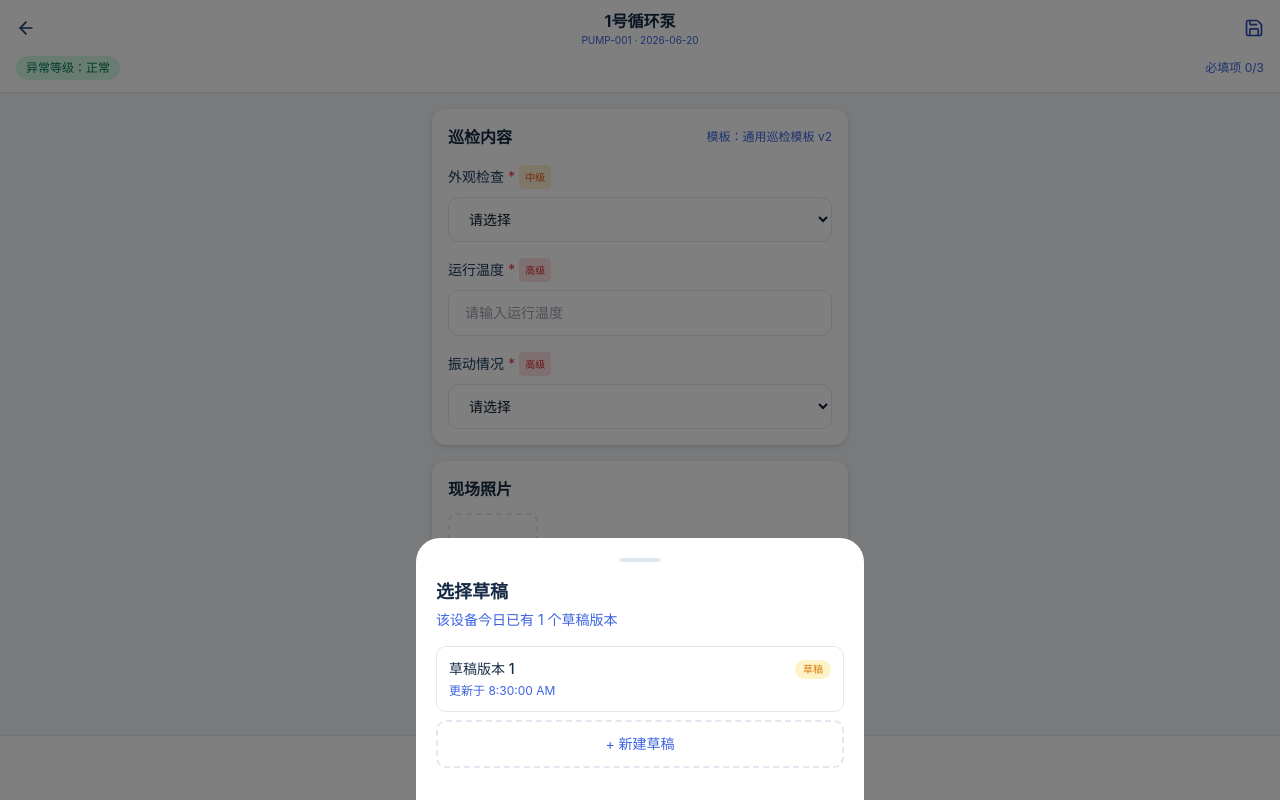
InspectionForm - 问题2: 旧模板版本拦截 › 点击取消可以继续编辑但不能提交
Check: the heading "选择草稿" is shown, box [436,581,508,602]
Step 1. Click the text "草稿版本 1" → (482, 669), box [449,659,514,679]
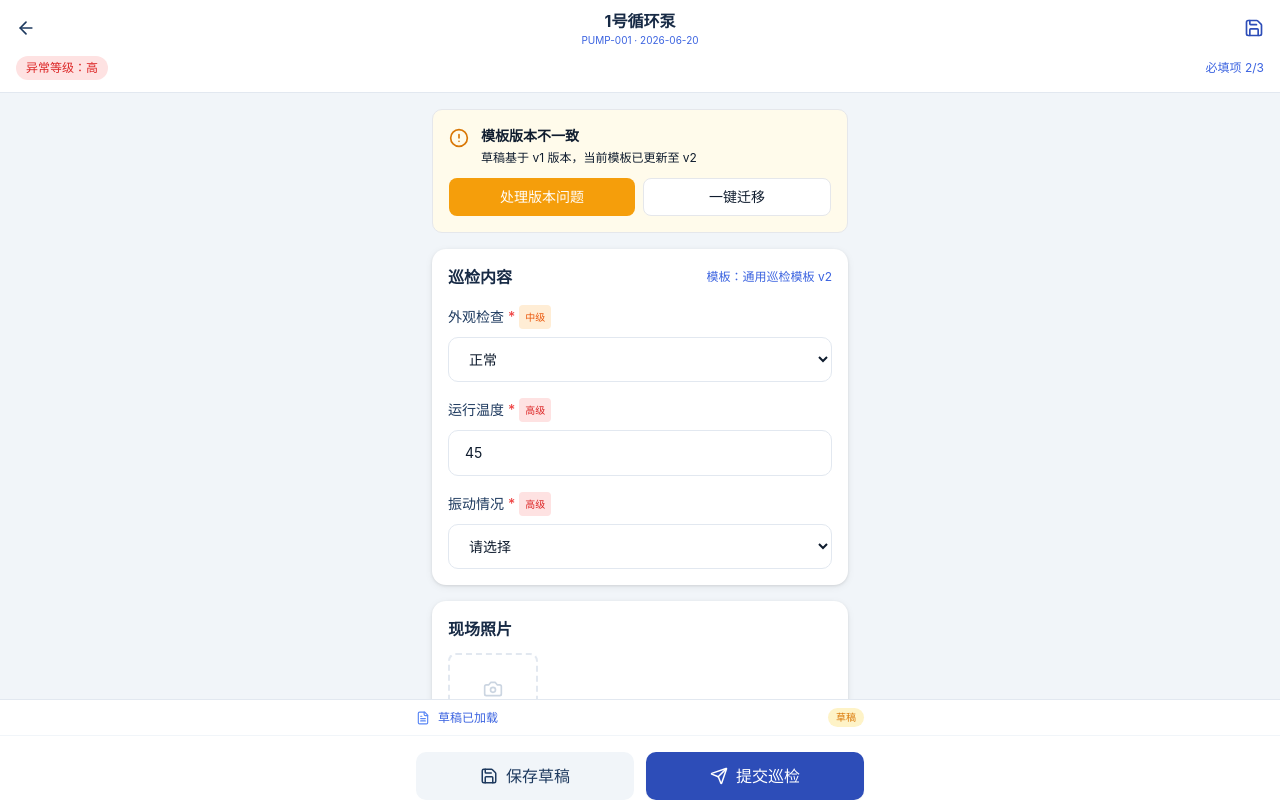
Check: the text "模板版本不一致" is shown, box [481,127,579,144]
Step 2. Click the button "提交巡检" → (755, 776), box [646,752,864,799]
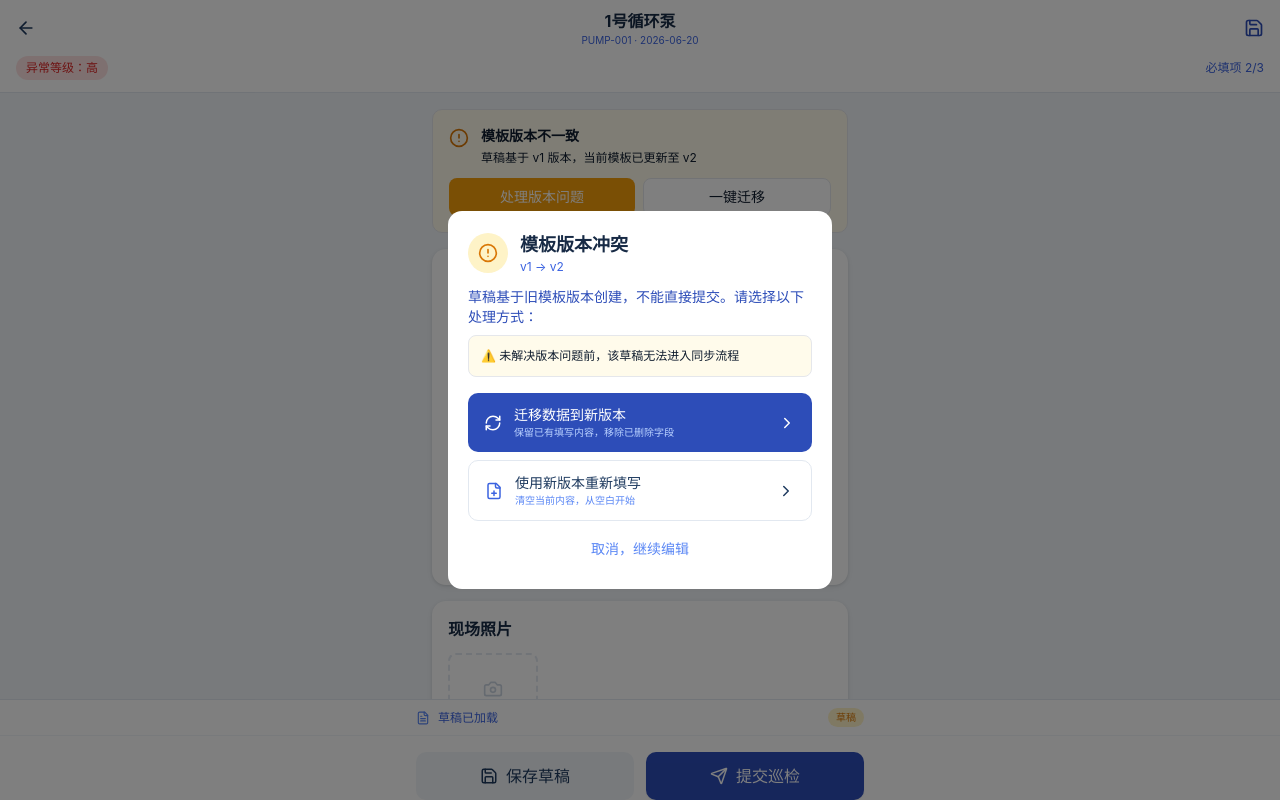
Check: the heading "模板版本冲突" is shown, box [520,231,628,259]
Step 3. Click the button "取消，继续编辑" → (640, 549), box [468,529,812,569]
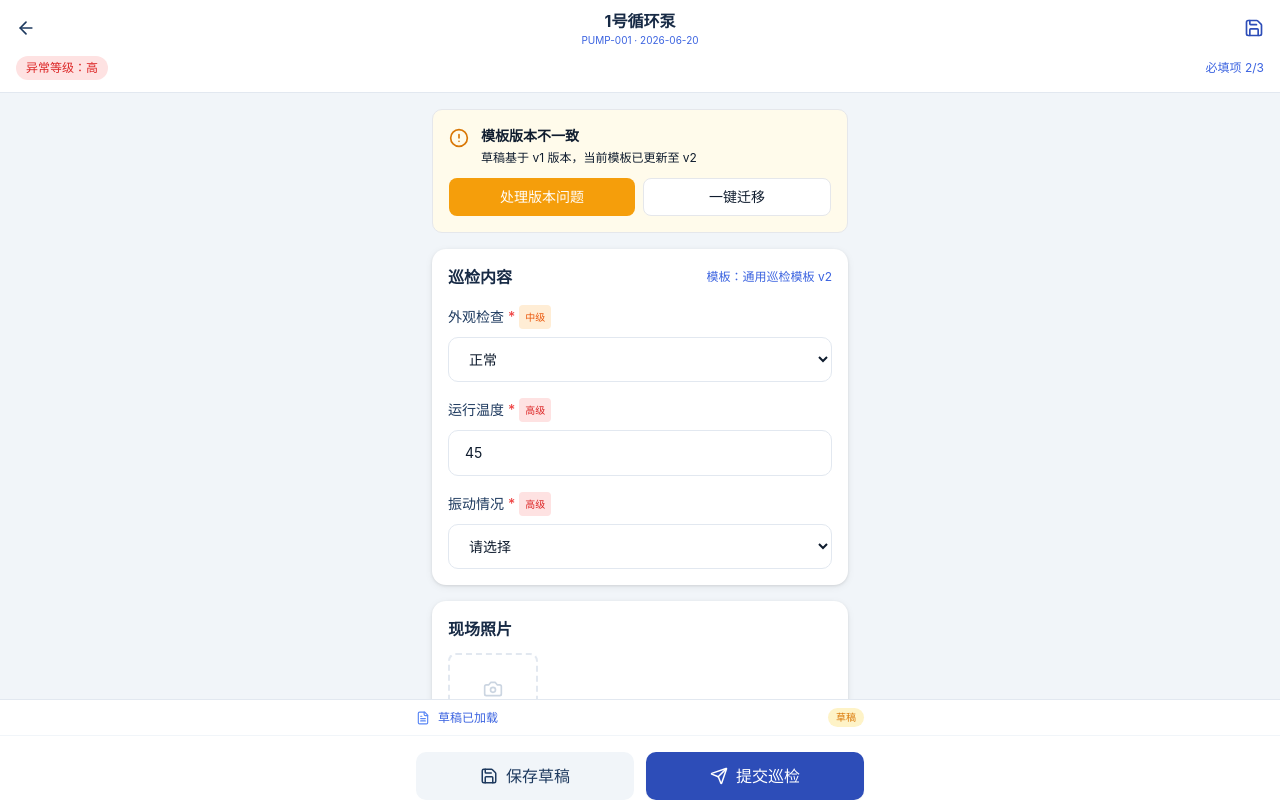
Check: the text "模板版本不一致" is shown, box [481,127,579,144]
Check: the heading "模板版本冲突" is gone
Step 4. Click the button "提交巡检" → (755, 776), box [646,752,864,799]
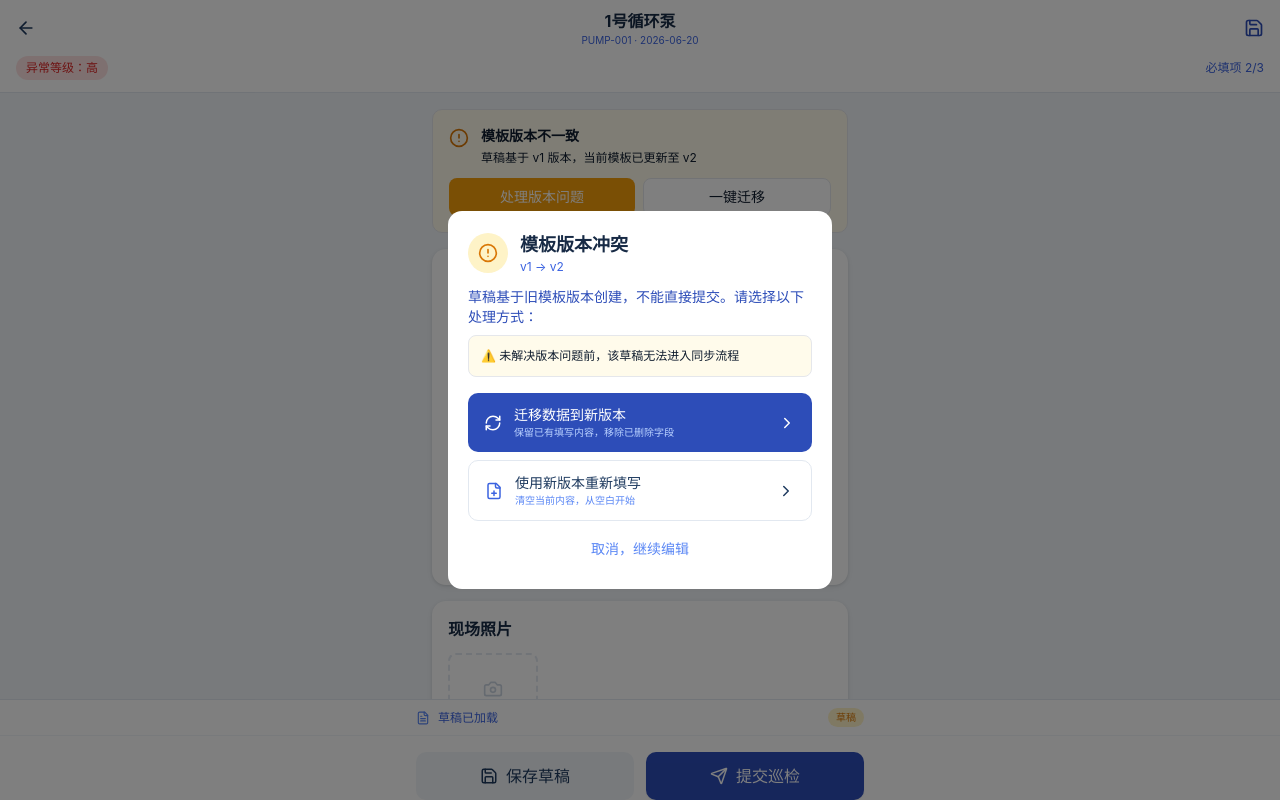
Check: the heading "模板版本冲突" is shown, box [520,231,628,259]
